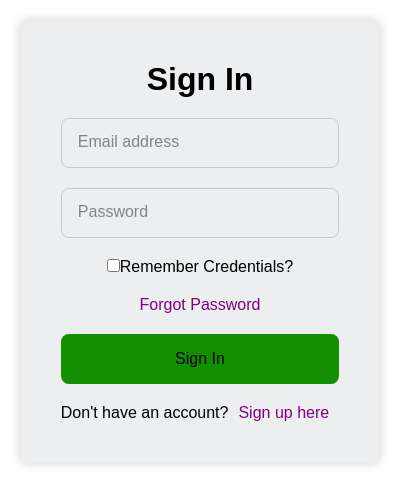
Scenario: Functionality › Form; Input validation; error message on invalid email pattern
The width and height of the screenshot is (401, 484).
Type "invalidAddress" into the field labelled "Email address" at {"x": 200, "y": 142}, box left=62, top=118, right=338, bottom=166
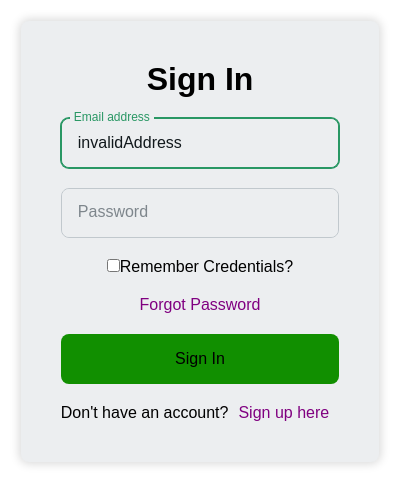
Type "validpassword" into the password field labelled "Password" at {"x": 200, "y": 212}, box left=62, top=188, right=338, bottom=236
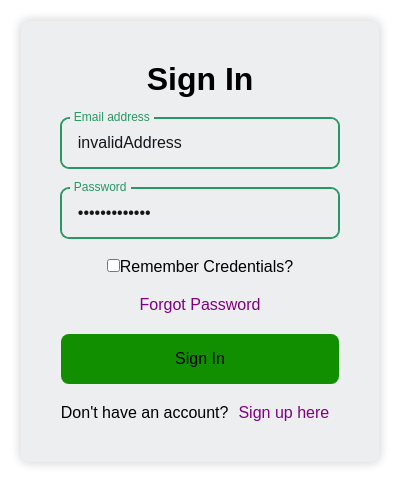
Click the button "Sign In" at {"x": 200, "y": 358}, box left=61, top=334, right=339, bottom=384
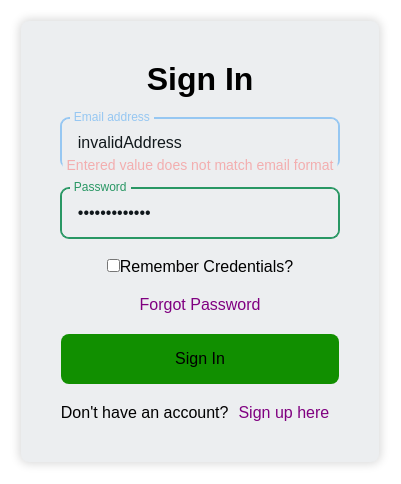
Expected: the message reads "Entered value does not match email format", left=66, top=156, right=333, bottom=172
